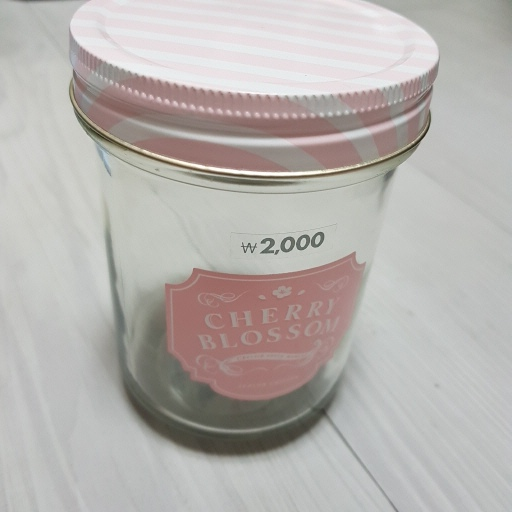Glass_5: (62, 1, 440, 444)
